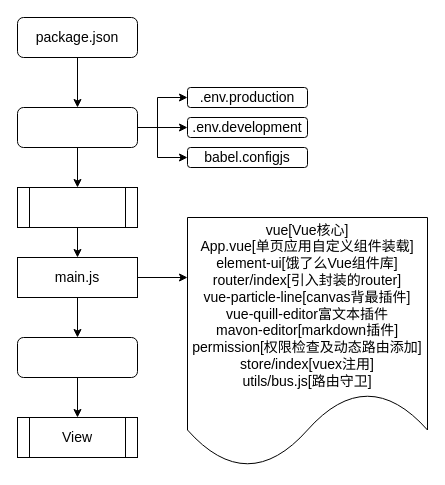
Image size: 445x485. Some labels were removed from this diagram. The shapes that lost their labels are listed below. From the top down, each one's centre as x and y in pixels, then its label:
(x=77, y=127): vue.config.js
(x=77, y=207): Vue App src()
(x=77, y=357): App.vue
